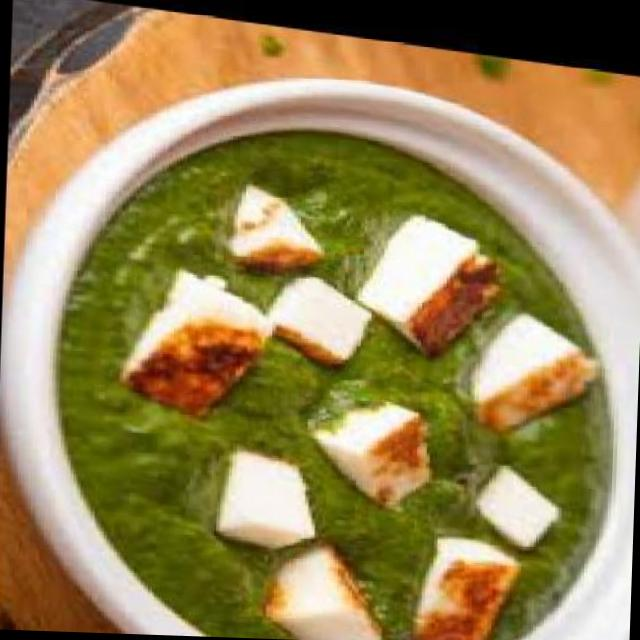palak_paneer: (44, 94, 625, 640)
